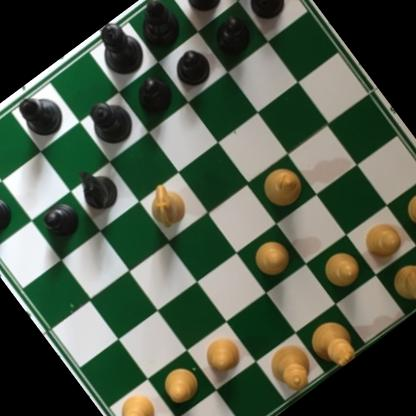black-bishop: (124, 0, 190, 57), (13, 83, 73, 145)
black-king: (86, 16, 151, 84)
black-knight: (67, 159, 124, 219), (170, 0, 233, 20)
black-pawn: (166, 43, 219, 96), (206, 10, 259, 63), (128, 72, 180, 124), (36, 197, 86, 247), (240, 0, 294, 27), (0, 188, 19, 242)
black-queen: (79, 90, 141, 154)
white-bishop: (253, 157, 311, 216)
white-king: (298, 312, 363, 378)
white-knight: (138, 178, 194, 236), (385, 255, 416, 315)
white-pawn: (316, 243, 370, 297), (247, 233, 299, 286), (195, 329, 247, 381), (357, 215, 408, 267), (155, 360, 205, 410), (112, 388, 163, 416), (398, 183, 416, 236)
white-queen: (258, 335, 323, 402)
